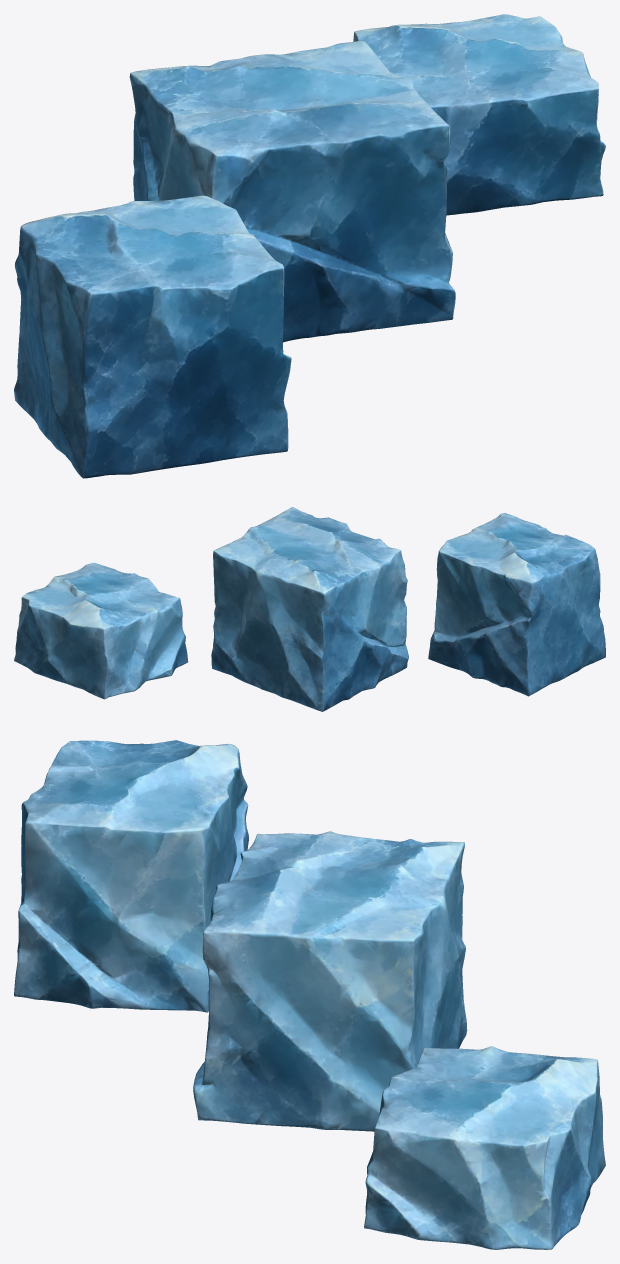
File: hielo_bloque.glb
3 views of the same model, one above another, from view 1: azimuth 30°, elevation 25°; view 2: azimuth 150°, elevation 25°; view 3: azimuth 270°, elevation 25° (orthographic). The views are drawn at different scales.
Visible parts, largest first — view 1: tripo_node_75ac87ee-94d1-4dab-885d-57a7434f7982; view 2: tripo_node_75ac87ee-94d1-4dab-885d-57a7434f7982; view 3: tripo_node_75ac87ee-94d1-4dab-885d-57a7434f7982.
Part boxes in pixels (x1,y1,x2,y2): tripo_node_75ac87ee-94d1-4dab-885d-57a7434f7982: [14, 14, 605, 478]; tripo_node_75ac87ee-94d1-4dab-885d-57a7434f7982: [14, 507, 605, 711]; tripo_node_75ac87ee-94d1-4dab-885d-57a7434f7982: [14, 740, 605, 1249].
Bounding box in the file's own units: 0.9998 × 0.2747 × 0.727.
1 material, 1 textured.
